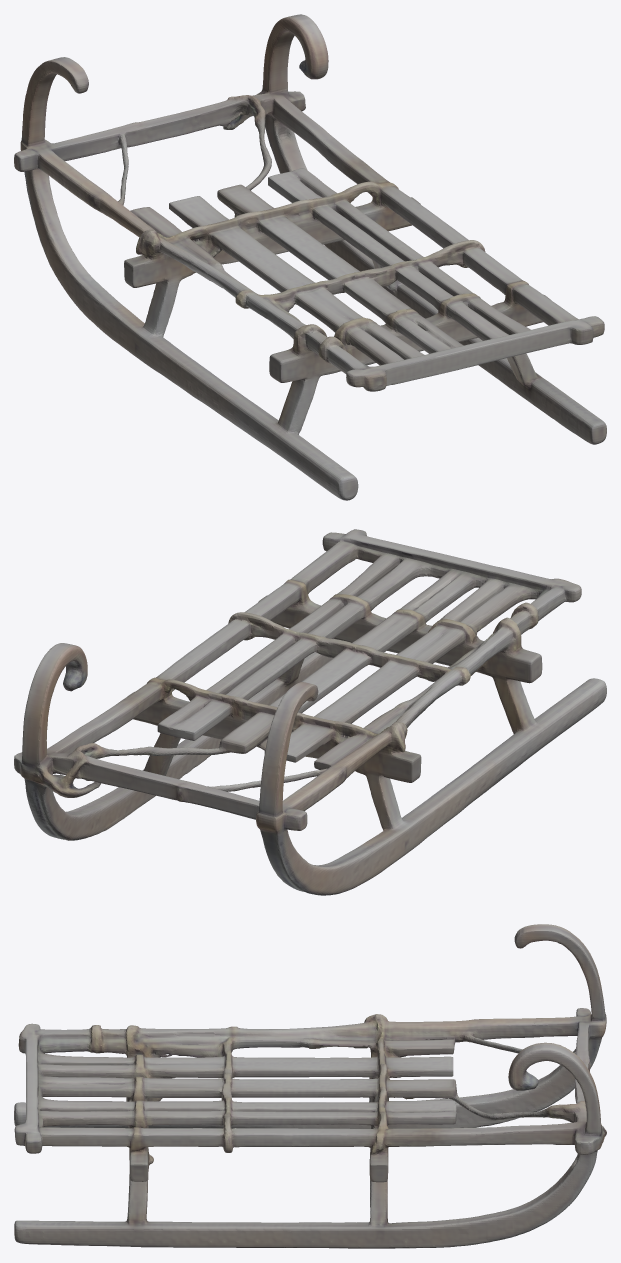
3 renders of one model, top to bottom at view 1: azimuth 30°, elevation 25°; view 2: azimuth 150°, elevation 25°; view 3: azimuth 270°, elevation 25°, orthographic. The views are drawn at different scales.
Parts seen in each view (by area): view 1: world; view 2: world; view 3: world.
Part boxes in pixels (x1,y1,x2,y2): world: (14, 14, 606, 500); world: (14, 529, 606, 895); world: (14, 924, 606, 1248).
Bounding box in the file's own units: 0.5083 × 0.3929 × 0.9985.
